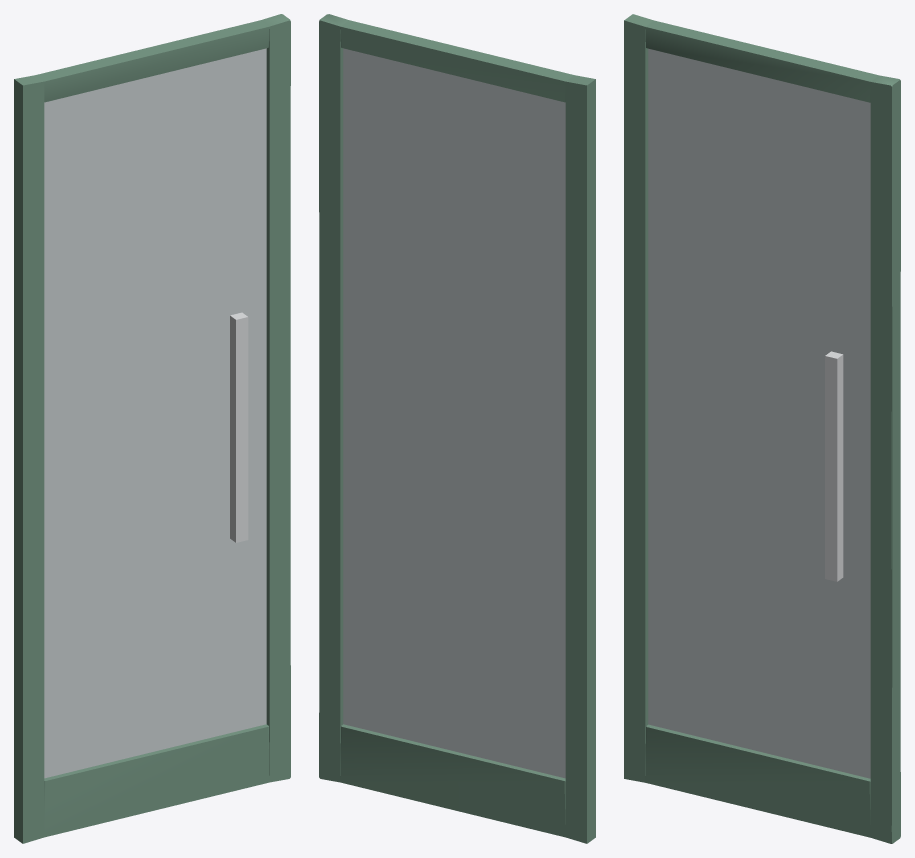
File: door_leaf_glass.glb
3 renders of one model, left to right at view 1: azimuth 30°, elevation 25°; view 2: azimuth 150°, elevation 25°; view 3: azimuth 330°, elevation 25°, orthographic.
Visible parts, largest first — view 1: door_leaf_glass_glass, door_leaf_glass_frame2, door_leaf_glass_metal; view 2: door_leaf_glass_glass, door_leaf_glass_frame2; view 3: door_leaf_glass_glass, door_leaf_glass_frame2, door_leaf_glass_metal.
Part boxes in pixels (x1,y1,x2,y2): door_leaf_glass_glass: (44, 48, 266, 778); door_leaf_glass_frame2: (14, 14, 290, 843); door_leaf_glass_metal: (230, 312, 248, 542); door_leaf_glass_glass: (343, 48, 565, 778); door_leaf_glass_frame2: (319, 14, 595, 843); door_leaf_glass_glass: (648, 48, 870, 778); door_leaf_glass_frame2: (624, 14, 900, 843); door_leaf_glass_metal: (825, 351, 843, 581).
Bounding box in the file's own units: 0.88 × 2.38 × 0.085.
